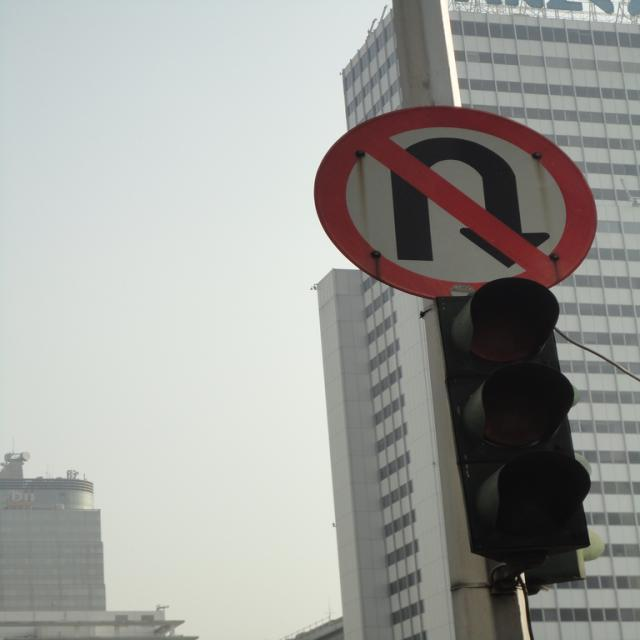off traffic light: (436, 276, 593, 579)
road_sign: (316, 103, 603, 301)
